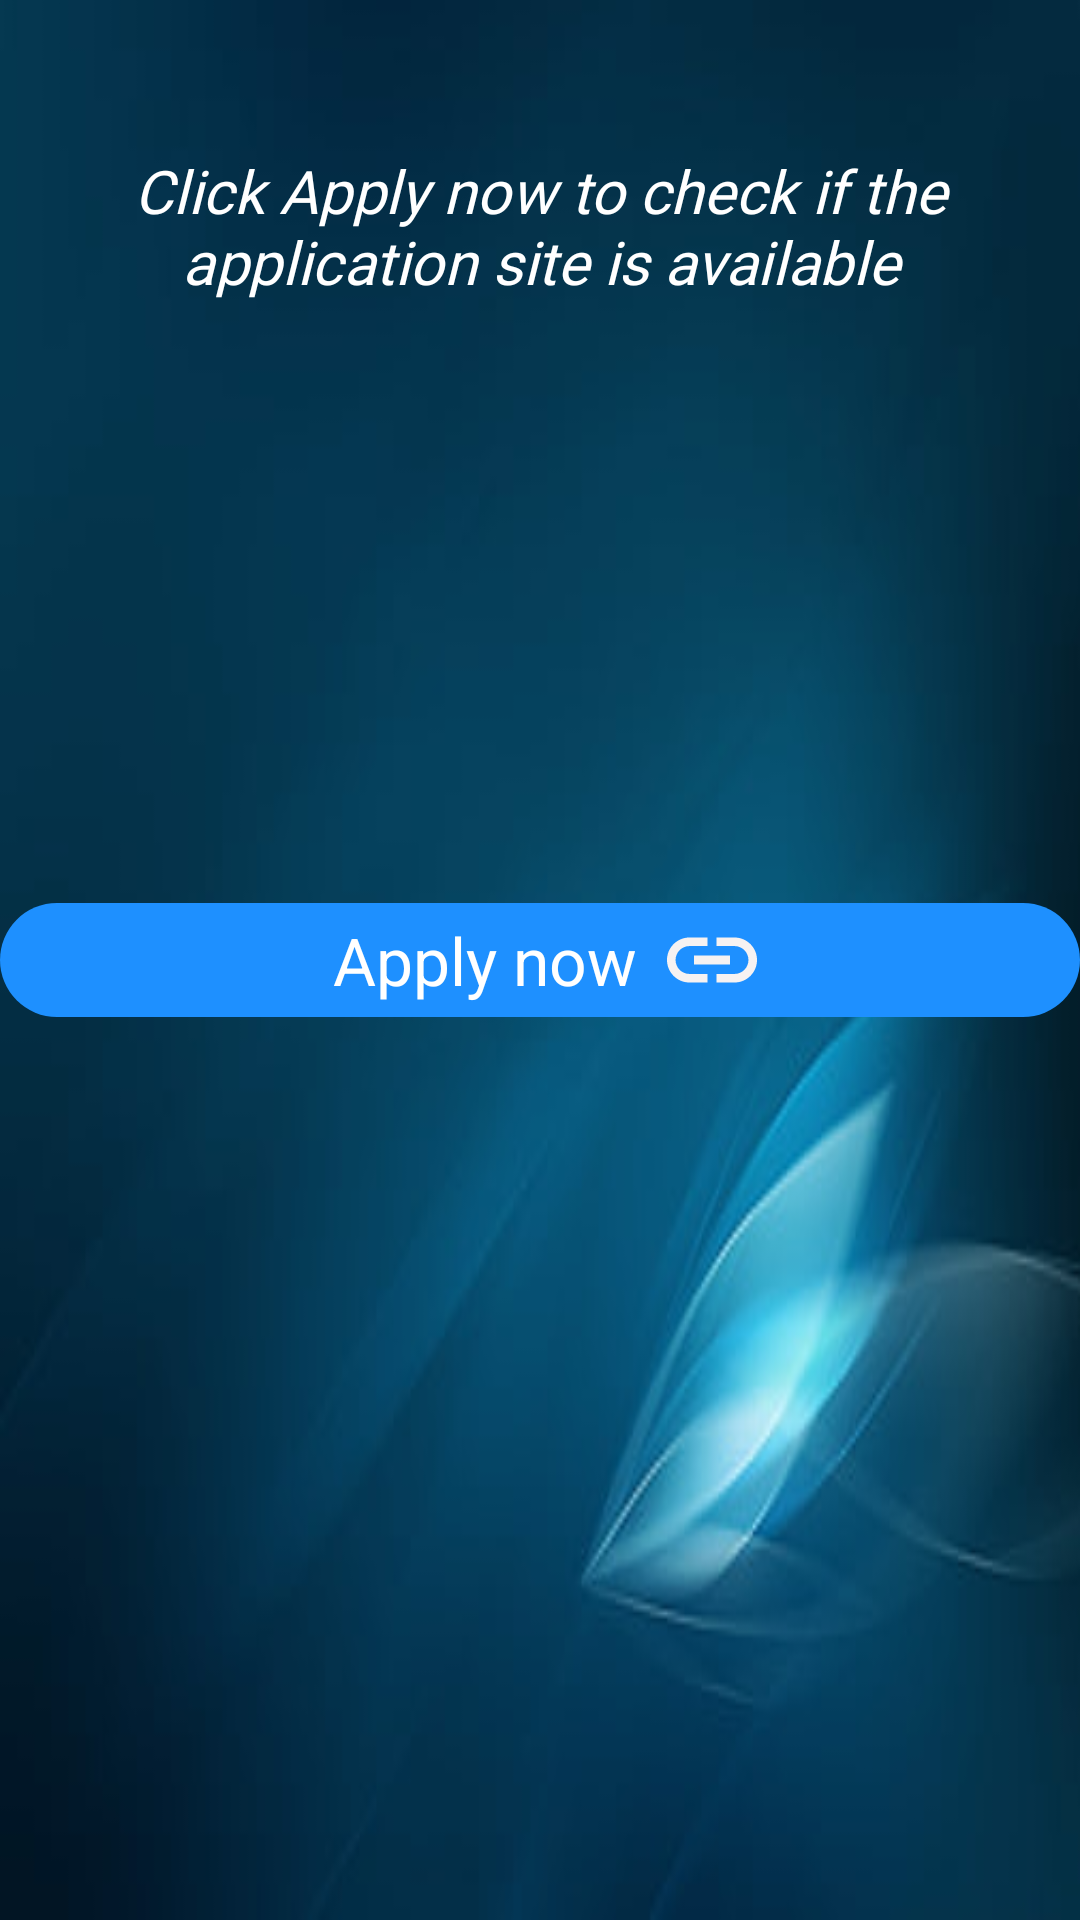

Point at icon controls on the screen. Image size 1080w x 1920h, points as (x,y).
link: (712,960)
